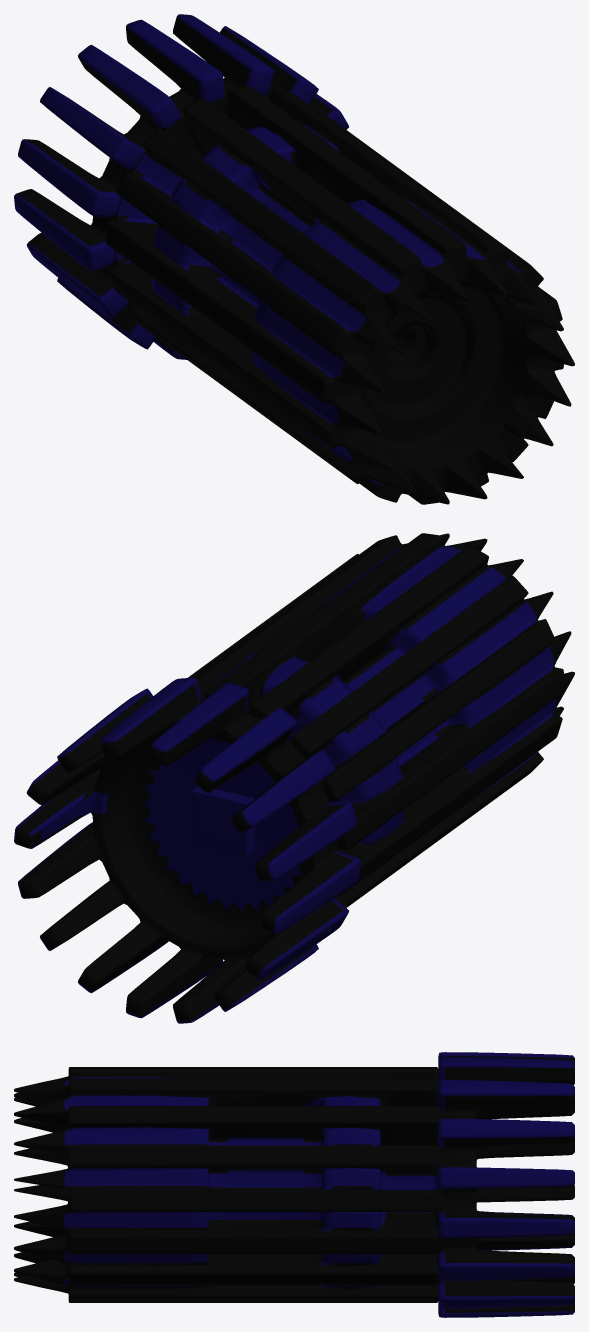
File: rocket_laucnher.fbx
3 views of the same model, one above another, from view 1: azimuth 30°, elevation 25°; view 2: azimuth 150°, elevation 25°; view 3: azimuth 270°, elevation 25° (orthographic). The views are drawn at different scales.
Parts seen in each view (by area): view 1: rocket laucher body; view 2: rocket laucher body; view 3: rocket laucher body.
Part boxes in pixels (x1=…): rocket laucher body: x1=14, y1=14, x2=574, y2=504; rocket laucher body: x1=14, y1=533, x2=574, y2=1023; rocket laucher body: x1=14, y1=1052, x2=574, y2=1317.
Bounding box in the file's own units: 74.67 × 74.67 × 158.
